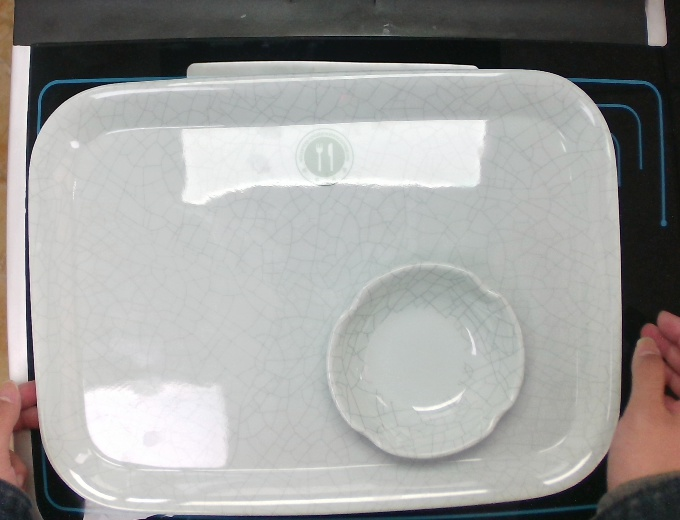JYsf-Ao_Yuan_Wan: (321, 254, 529, 463)
